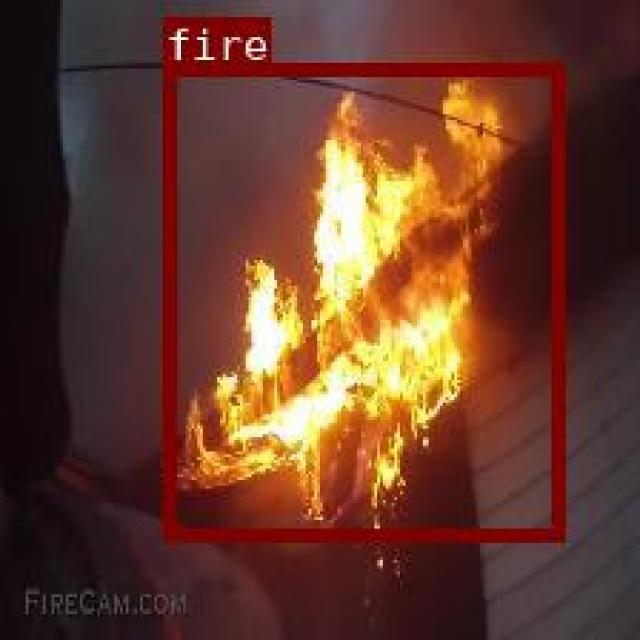fire: (160, 60, 563, 538)
